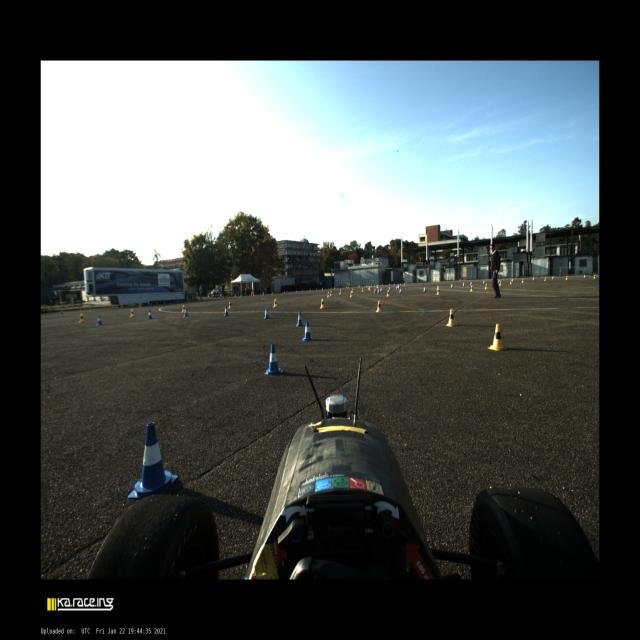blue_cone: (126, 421, 179, 498), (264, 344, 283, 376), (301, 320, 314, 342), (296, 310, 304, 328), (264, 306, 270, 320), (223, 305, 230, 316), (97, 315, 103, 325), (148, 309, 153, 320), (184, 307, 188, 317), (423, 286, 427, 292), (399, 288, 402, 294), (374, 288, 377, 293), (462, 282, 465, 287), (583, 274, 586, 279), (377, 288, 379, 294), (437, 285, 439, 291), (380, 287, 382, 292), (552, 275, 554, 280), (470, 281, 472, 286), (396, 285, 398, 290), (450, 284, 452, 288), (483, 280, 485, 284), (61, 310, 63, 314), (403, 283, 405, 287), (398, 284, 400, 288), (512, 278, 514, 282), (498, 279, 500, 283), (533, 276, 534, 281), (389, 286, 390, 291), (394, 283, 395, 286), (400, 283, 401, 286)
yellow_cone: (488, 324, 507, 351), (445, 308, 456, 327), (376, 300, 382, 313), (320, 298, 325, 310), (78, 314, 85, 322), (130, 308, 136, 317), (273, 299, 277, 308), (182, 305, 186, 313), (386, 290, 390, 297), (484, 283, 488, 290), (436, 288, 440, 295), (327, 290, 330, 298), (229, 301, 232, 309), (330, 290, 333, 297), (350, 291, 353, 298), (470, 285, 473, 292), (593, 274, 596, 280), (89, 307, 92, 313), (499, 281, 502, 286), (339, 290, 342, 294), (362, 287, 364, 292), (522, 278, 524, 283), (139, 303, 141, 308), (510, 280, 512, 284), (544, 277, 546, 281), (566, 276, 568, 280), (374, 284, 376, 288), (377, 285, 379, 289), (376, 284, 378, 288), (366, 285, 368, 288), (369, 286, 370, 291), (352, 288, 353, 293), (371, 284, 372, 288), (368, 286, 369, 290), (296, 290, 297, 292), (284, 291, 284, 294)
